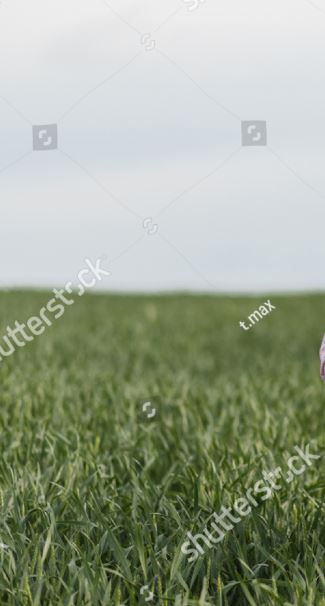Wheat: (64, 416, 203, 566)
